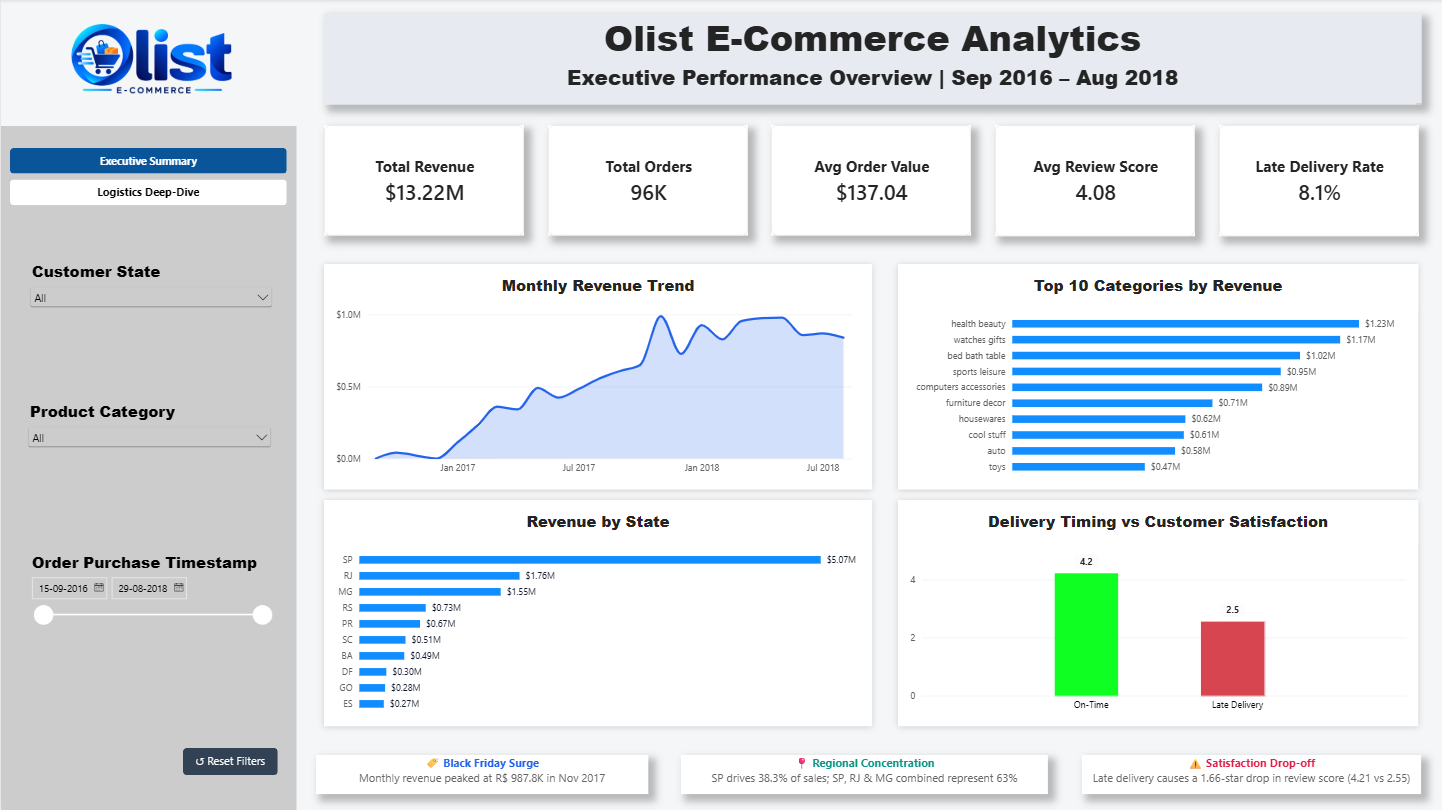

This screenshot's page, from the dashboard's own definition file:
{"tool":"powerbi","page":{"name":"Executive Summary","canvas":[1920,1080],"ordinal":0},"visuals":[{"type":"textbox","title":"Olist E-Commerce Analytics","box":[429.3,18.7,1459.5,121.8],"z":0},{"type":"shape","box":[0,168.6,393.4,911.6],"z":1000},{"type":"cardVisual","title":"Total Revenue","fields":{"Data":["olist_cleaned_for_dashboard.Total Revenue"]},"box":[429.6,168.2,266.1,147.4],"z":2000},{"type":"cardVisual","title":"Avg Order Value","fields":{"Data":["olist_cleaned_for_dashboard.Avg Order Value"]},"box":[1024.6,168.2,266.1,147.4],"z":3000},{"type":"cardVisual","title":"Avg Review Score","fields":{"Data":["olist_cleaned_for_dashboard.Avg Review Score"]},"box":[1322.2,168.2,266,148],"z":4000},{"type":"cardVisual","title":"Total Orders","fields":{"Data":["olist_cleaned_for_dashboard.Total Orders"]},"box":[727.1,168.2,266.1,147.4],"z":5000},{"type":"lineChart","title":"Monthly Revenue Trend","fields":{"Y":["olist_cleaned_for_dashboard.Total Revenue"],"Category":["olist_cleaned_for_dashboard.order_purchase_timestamp.Variation.Date Hierarchy.Year","olist_cleaned_for_dashboard.order_purchase_timestamp.Variation.Date Hierarchy.Month"]},"box":[429.3,352.8,729,299.7],"z":6000},{"type":"clusteredBarChart","title":"Top 10 Categories by Revenue","fields":{"Y":["olist_cleaned_for_dashboard.Total Revenue"],"Category":["olist_cleaned_for_dashboard.Category_Clean"]},"box":[1192.6,352.8,691.5,299.7],"z":7000},{"type":"clusteredBarChart","title":"Revenue by State","fields":{"Category":["olist_cleaned_for_dashboard.customer_state"],"Y":["olist_cleaned_for_dashboard.Total Revenue"]},"box":[429.3,666.5,729,301.3],"z":8000},{"type":"clusteredColumnChart","title":"Delivery Timing vs Customer Satisfaction","fields":{"Y":["olist_cleaned_for_dashboard.Avg Review Score"],"Category":["olist_cleaned_for_dashboard.Delivery_Status"]},"box":[1192.6,666.5,691.5,301.3],"z":9000},{"type":"slicer","title":"Customer State","fields":{"Values":["olist_cleaned_for_dashboard.customer_state"]},"box":[32.9,347.7,333,97.7],"z":10000},{"type":"slicer","title":"Product Category","fields":{"Values":["olist_cleaned_for_dashboard.product_category_name_english"]},"box":[30.9,533.7,334,100],"z":11000},{"type":"slicer","title":"Order Purchase Timestamp","fields":{"Values":["olist_cleaned_for_dashboard.order_purchase_timestamp"]},"box":[32.9,733.7,331.2,150.2],"z":12000},{"type":"image","box":[43.7,15.6,312.2,128],"z":13000},{"type":"cardVisual","fields":{"Data":["olist_cleaned_for_dashboard.Late Delivery Rate"]},"box":[1619.6,168.2,266,148],"z":14000},{"type":"actionButton","box":[242,996,126,36],"z":15000},{"type":"textbox","box":[418.3,1005.8,441.8,51.5],"z":16000},{"type":"textbox","box":[904.9,1005.3,488,52],"z":17000},{"type":"textbox","box":[1437.7,1005.8,451.1,51.5],"z":18000},{"type":"pageNavigator","box":[12.5,198.2,368,76],"z":19000}]}

Visuals, with their boxes on the page's 1920x1080 design canvas (x1, y1, x2, y2). These are canvas units, not pixel positions in the 1442x810 screenshot, which may show the page scaled, cropped or inside an application window:
"Olist E-Commerce Analytics" textbox: 429:19:1889:140
shape: 0:169:393:1080
"Total Revenue" cardVisual: 430:168:696:316
"Avg Order Value" cardVisual: 1025:168:1291:316
"Avg Review Score" cardVisual: 1322:168:1588:316
"Total Orders" cardVisual: 727:168:993:316
"Monthly Revenue Trend" lineChart: 429:353:1158:652
"Top 10 Categories by Revenue" clusteredBarChart: 1193:353:1884:652
"Revenue by State" clusteredBarChart: 429:666:1158:968
"Delivery Timing vs Customer Satisfaction" clusteredColumnChart: 1193:666:1884:968
"Customer State" slicer: 33:348:366:445
"Product Category" slicer: 31:534:365:634
"Order Purchase Timestamp" slicer: 33:734:364:884
image: 44:16:356:144
cardVisual - olist_cleaned_for_dashboard.Late Delivery Rate: 1620:168:1886:316
actionButton: 242:996:368:1032
textbox: 418:1006:860:1057
textbox: 905:1005:1393:1057
textbox: 1438:1006:1889:1057
pageNavigator: 12:198:380:274
